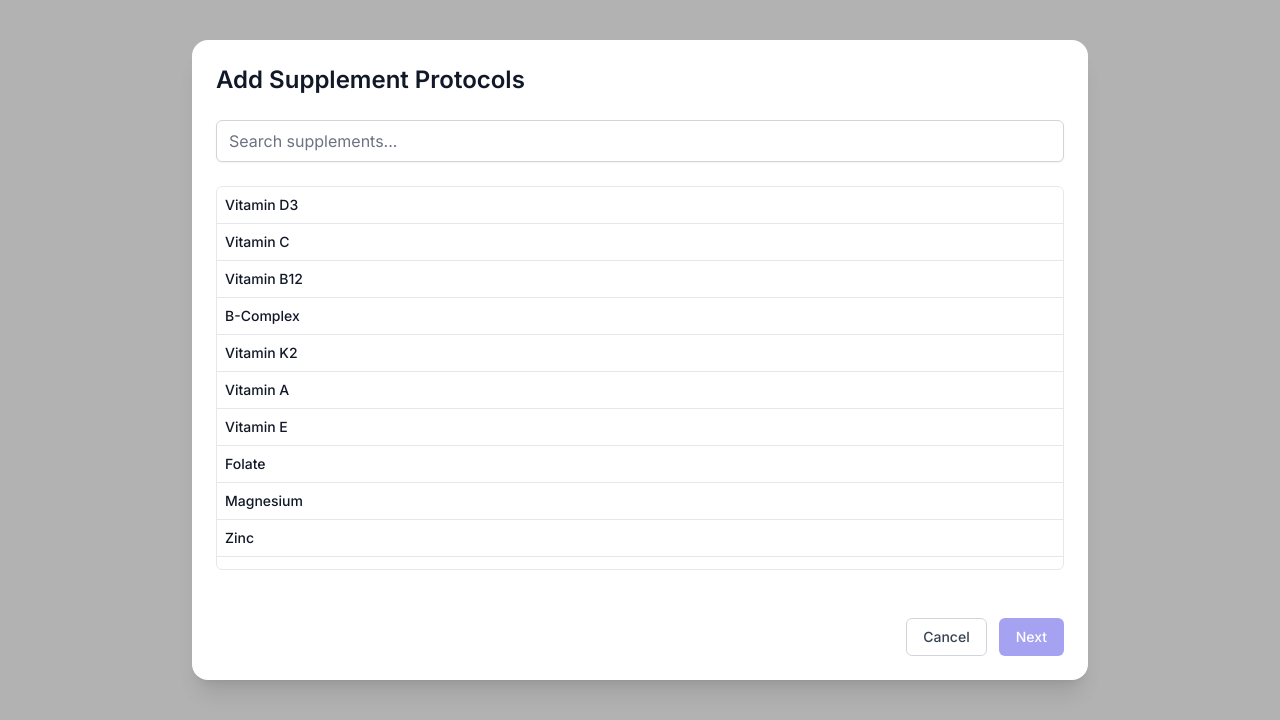
AddSupplementProtocolModal › navigates to details step
Select a supplement
Click the text "Vitamin D3". click: point(262, 204)
box: [225,196,298,213]
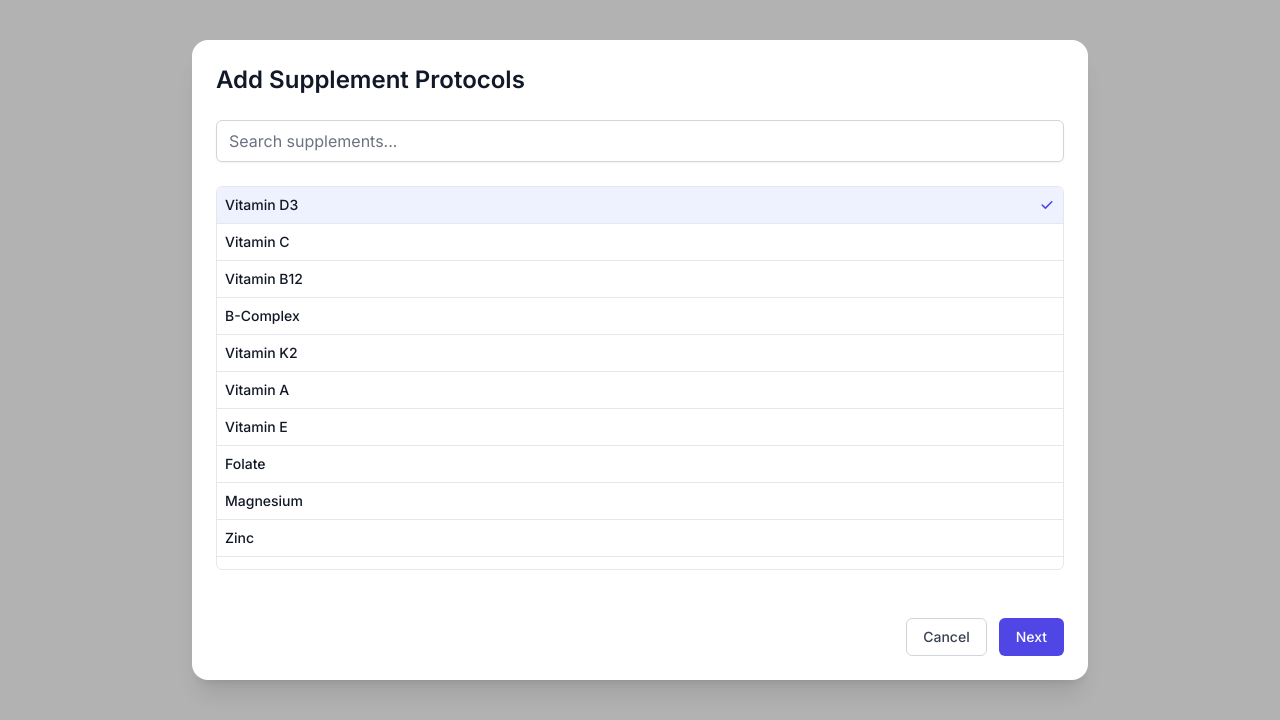
Click Next
Click the button "Next". click: point(1031, 637)
box: [999,618,1064,656]
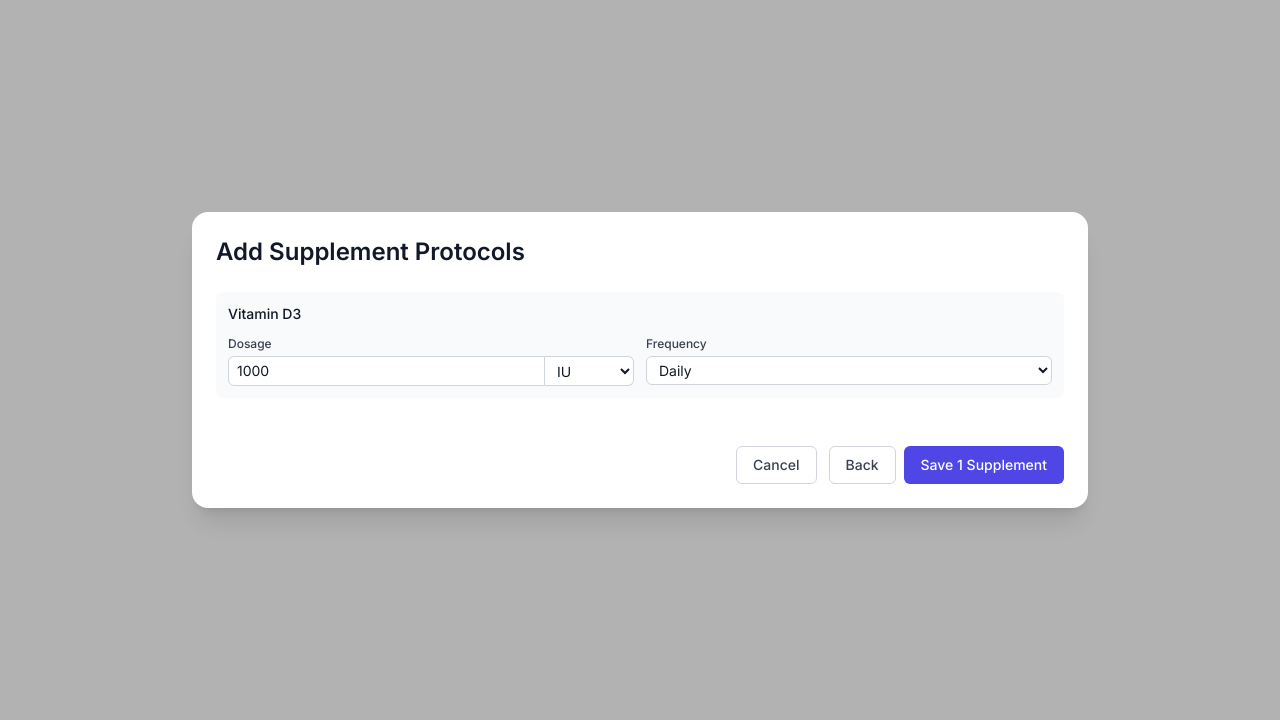
Check: the button "Back" is shown, box [828,446,896,484]
Check: the button "Save 1 Supplement" is shown, box [904,446,1064,484]
Check: the button "Next" is gone
